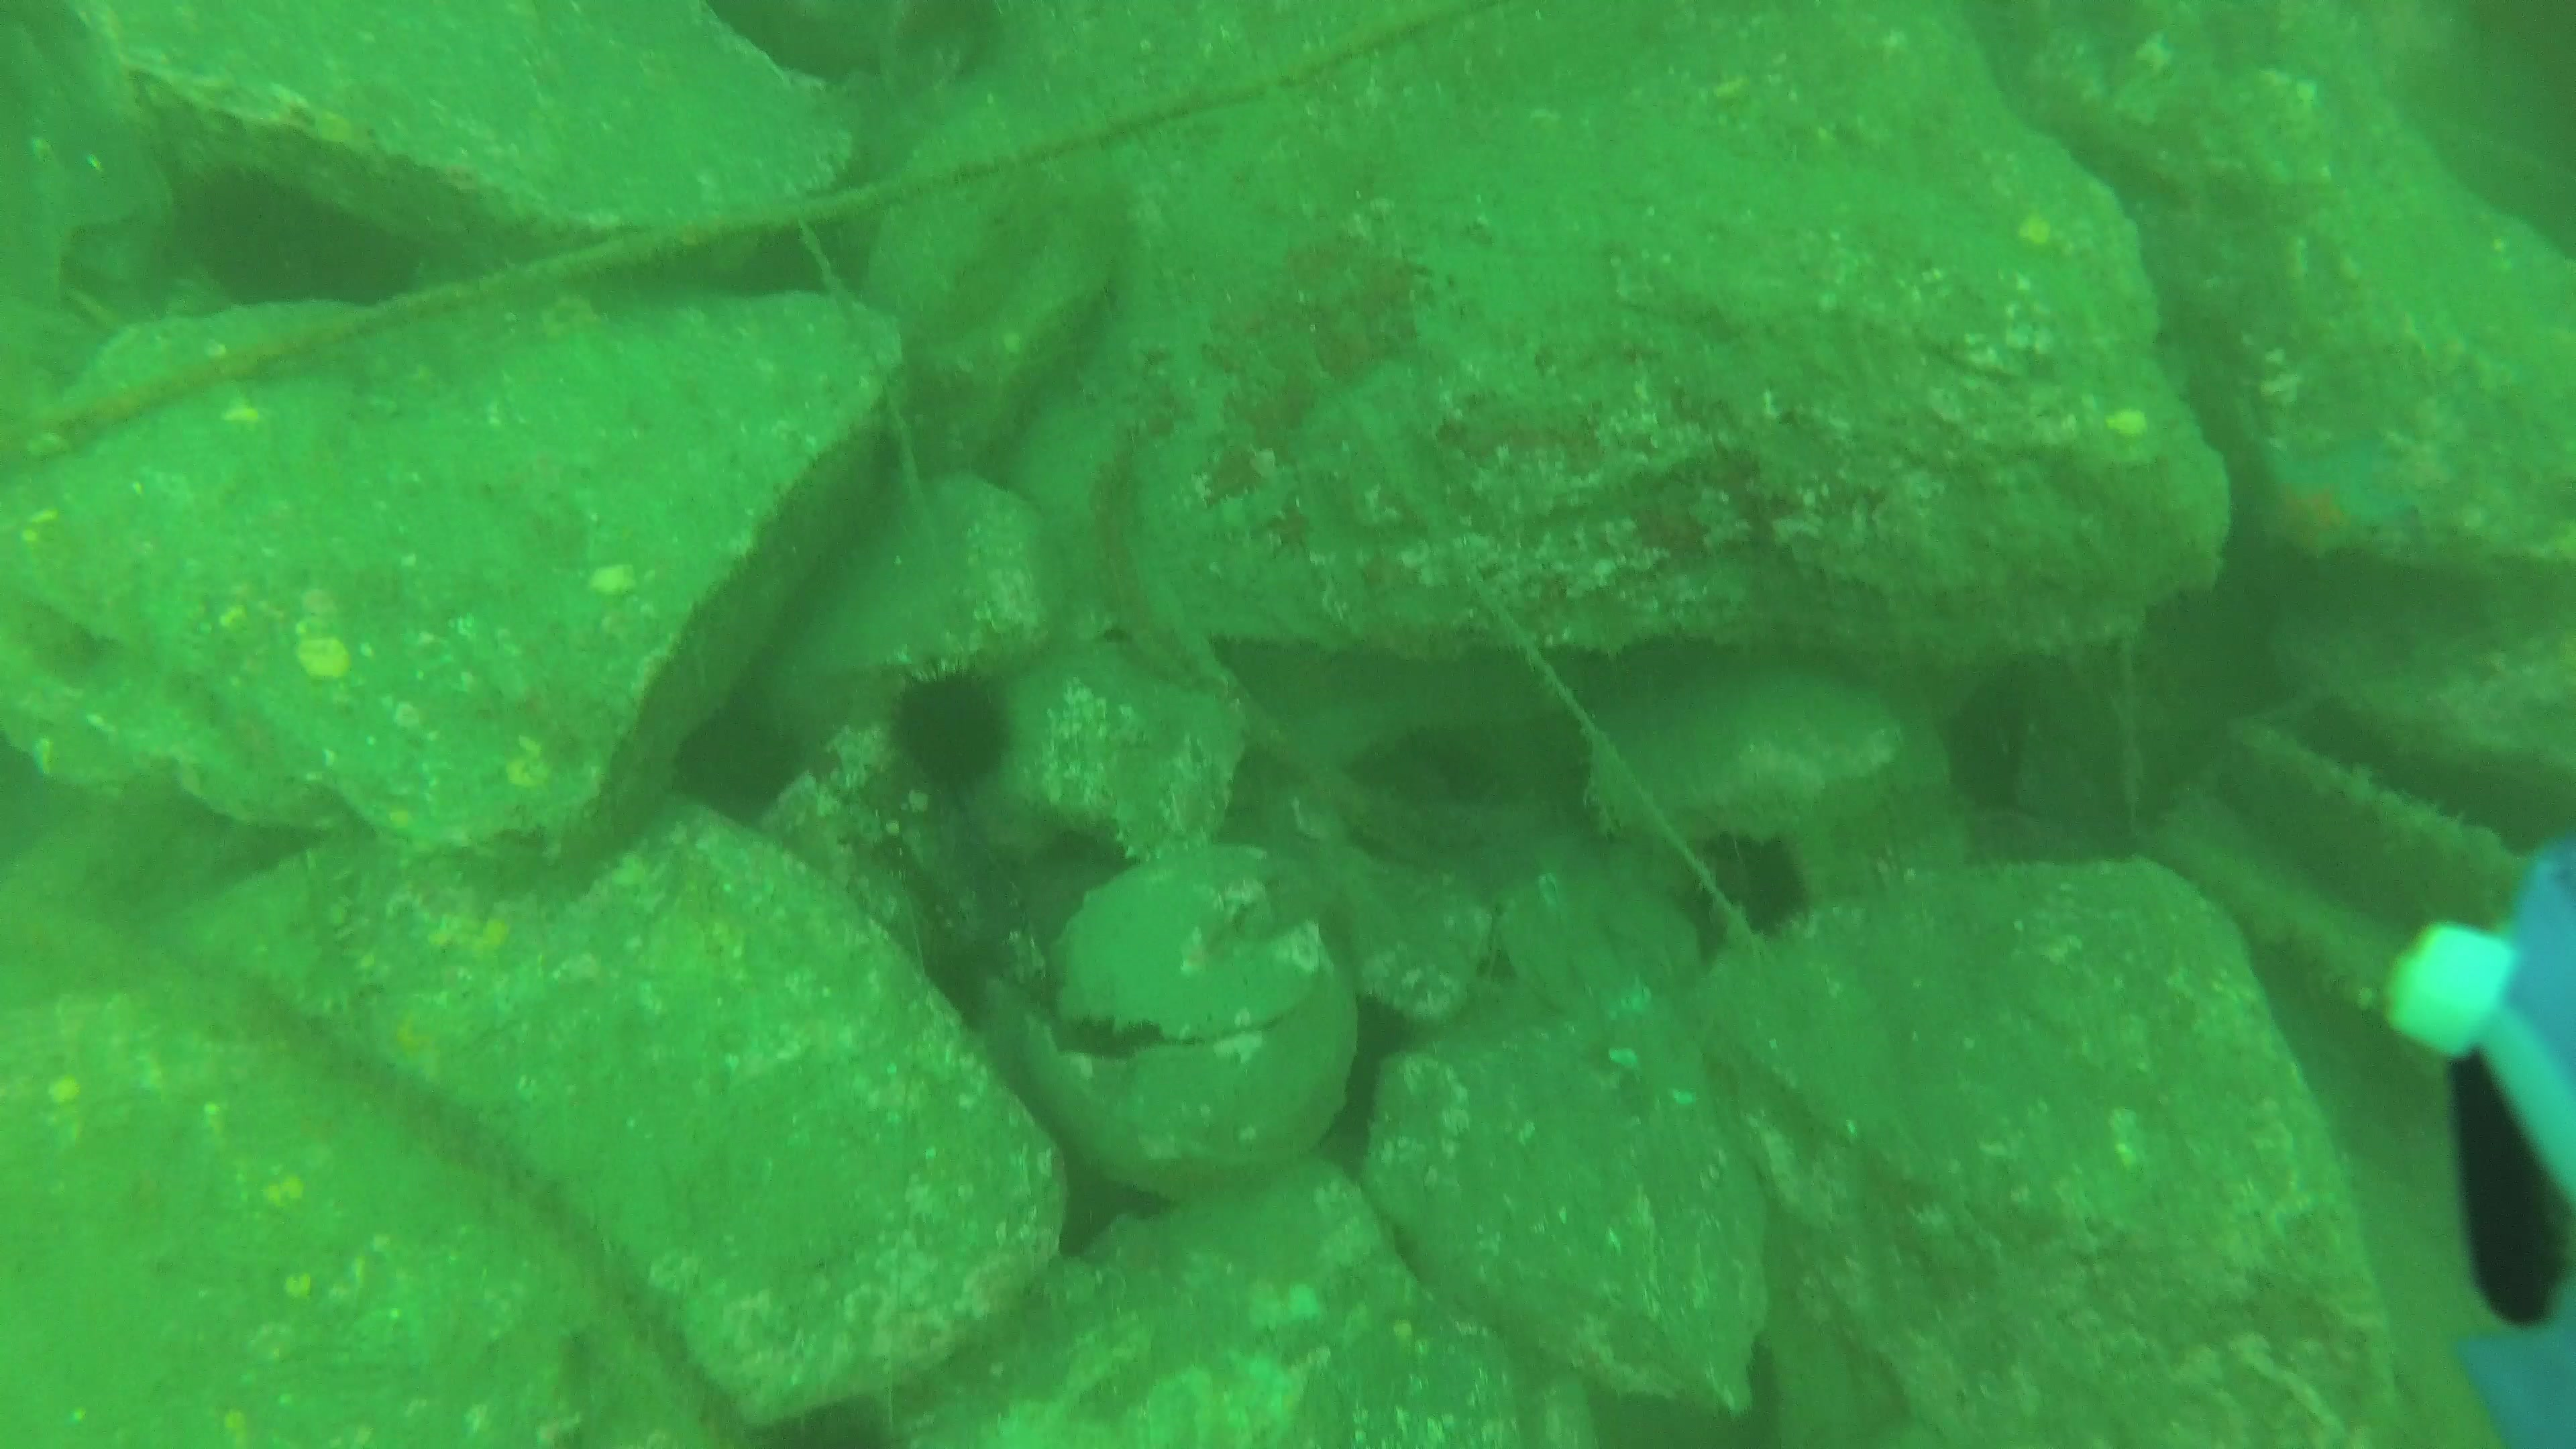echinus: (872, 656, 1017, 800)
starfish: (2243, 435, 2415, 570)
